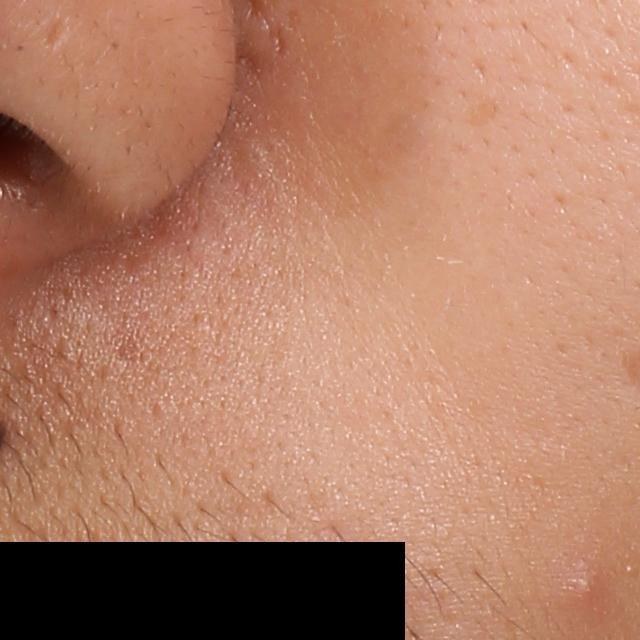atrophic_scar: (264, 20, 289, 64), (44, 16, 72, 53)
papule: (546, 546, 616, 633)
